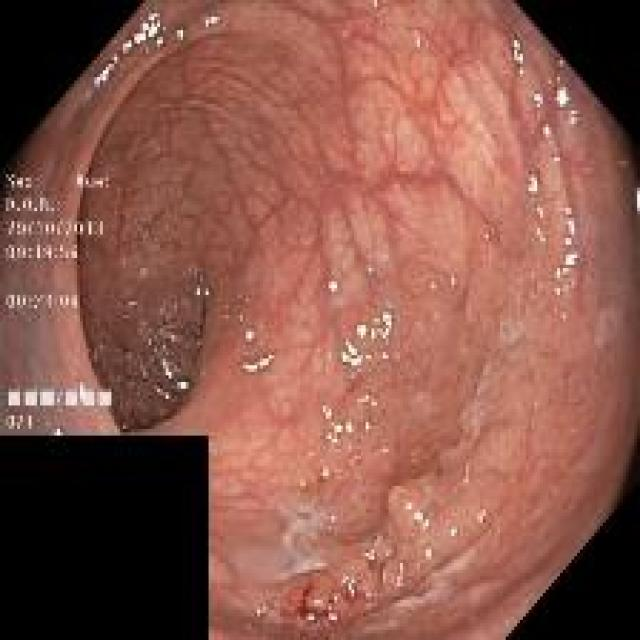Polyps: (300, 441, 514, 625)
